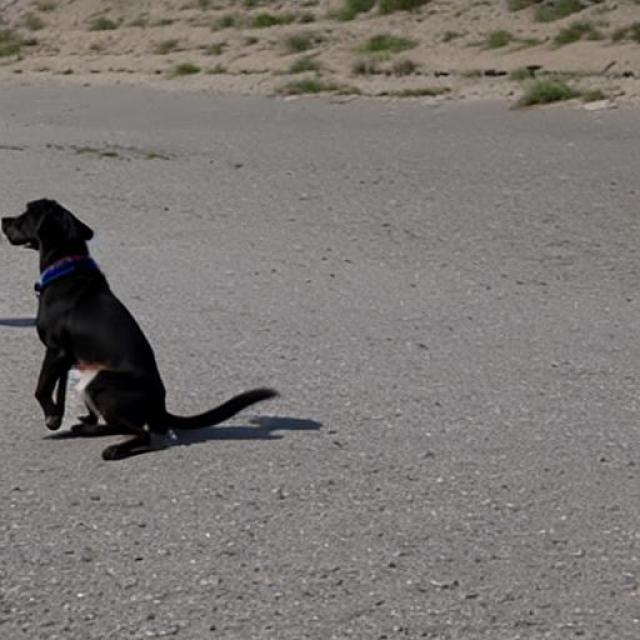Dog: (1, 197, 280, 461)
